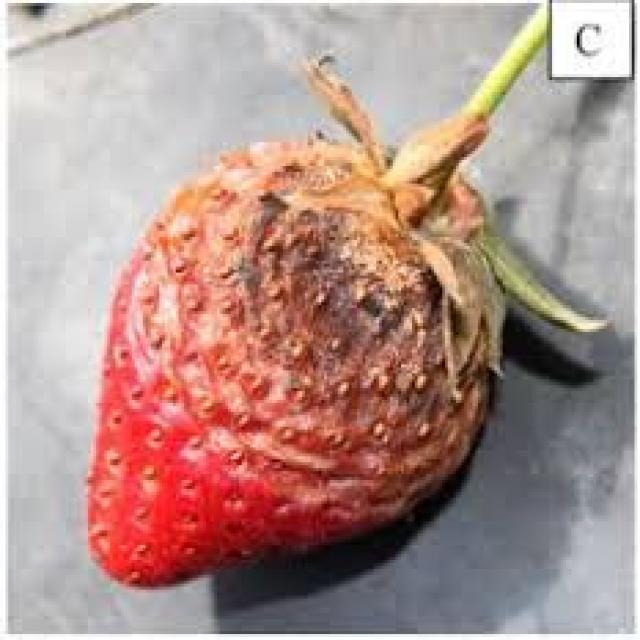Mancha negra Antracnosis: (89, 114, 492, 566)
